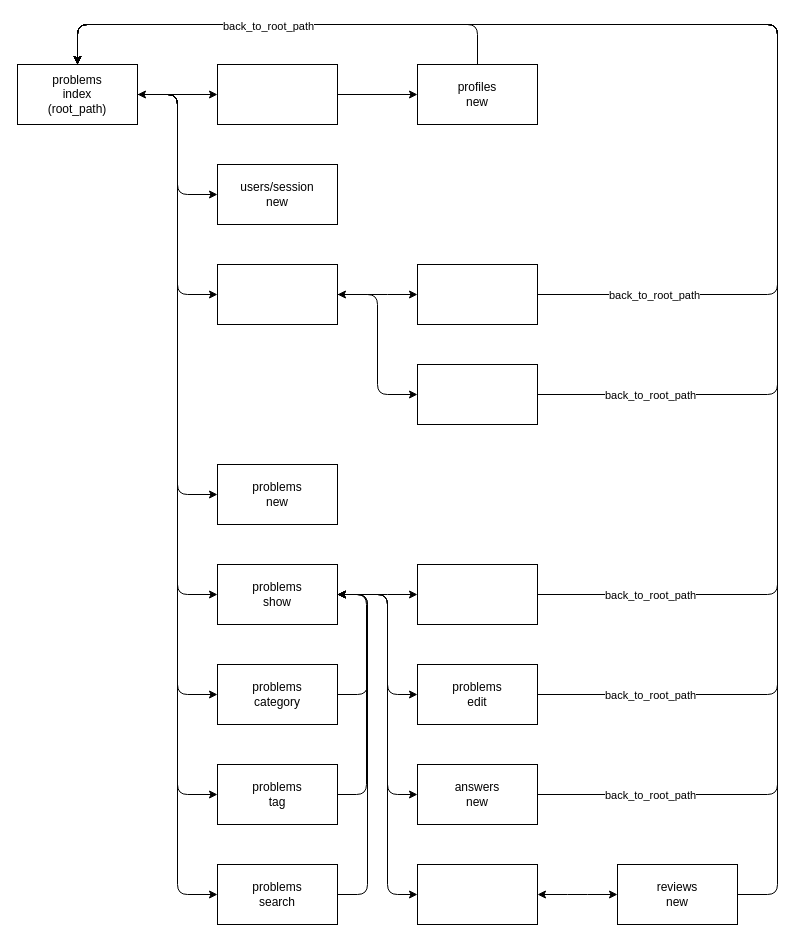
The diagram is 803 pixels wide and 942 high, and some of its shapes have lost their labels. The centre of each missing label's shape, as x and y in pixels:
"answers show" belongs at [477,894].
"problems destroy" belongs at [477,594].
"profiles edit" belongs at [477,294].
"profiles show" belongs at [277,294].
"reviews show" belongs at [477,394].
"users/registration new" belongs at [277,94].
